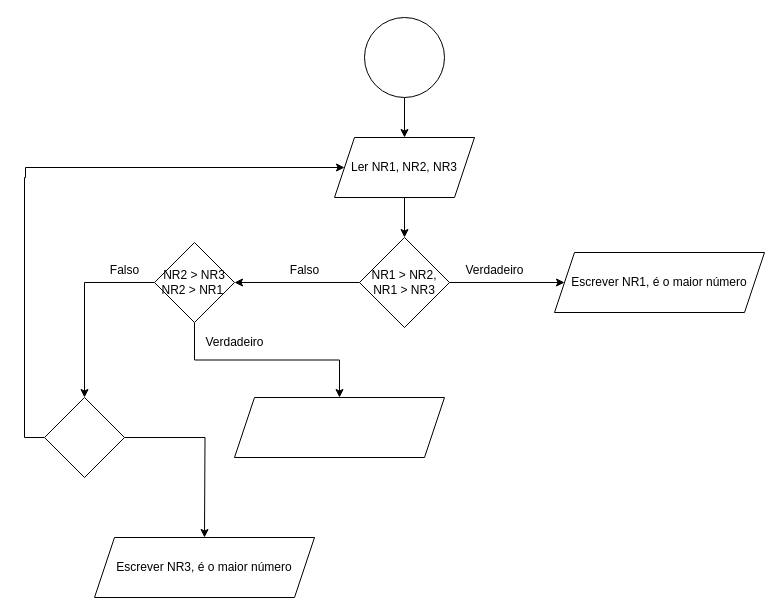
Image size: 782x615. Some labels were removed from this diagram. Each missing label, with the box of its shape:
Escrever NR2, é o maior número: (234, 396, 444, 458)
Inicio: (364, 16, 444, 98)
NR3 > NR1 NR3 > NR2: (44, 396, 124, 478)
